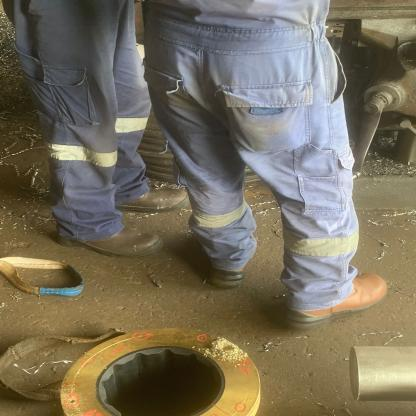bota: (284, 270, 387, 329), (56, 227, 165, 260), (114, 186, 189, 212)
